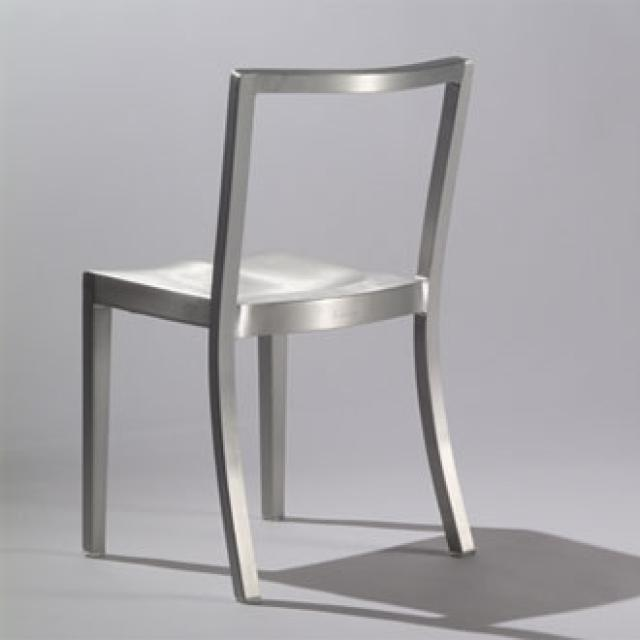chair: (79, 54, 476, 600)
